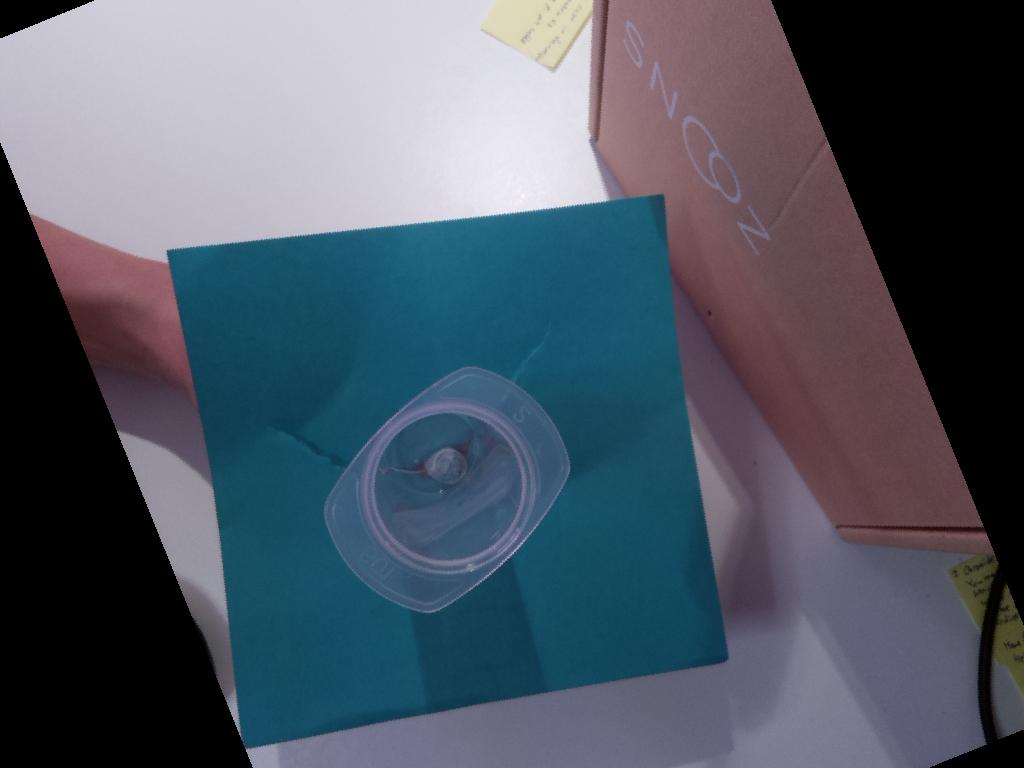clean: (321, 367, 570, 612)
